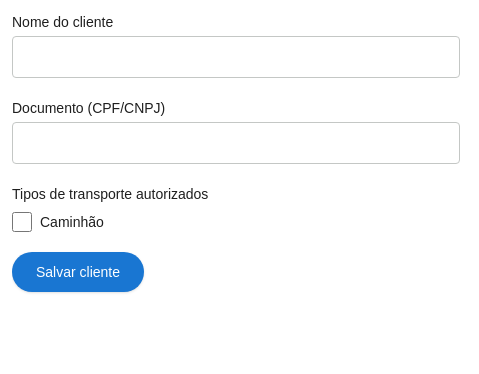
Scenario: CustomerForm › exibe os erros de validação ao submeter o formulário vazio
The width and height of the screenshot is (479, 374).
Expected: the checkbox labelled "Caminhão" is shown, x1=12 y1=212 x2=32 y2=232
Click the button "Salvar cliente".
click(78, 272)  # box x1=12 y1=252 x2=144 y2=292
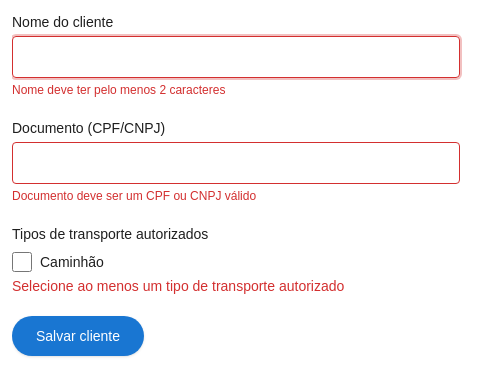
Now the text "Nome deve ter pelo menos 2 caracteres" is shown, box x1=12 y1=83 x2=226 y2=97
Now the text "Selecione ao menos um tipo de transporte autorizado" is shown, box x1=12 y1=278 x2=344 y2=294
